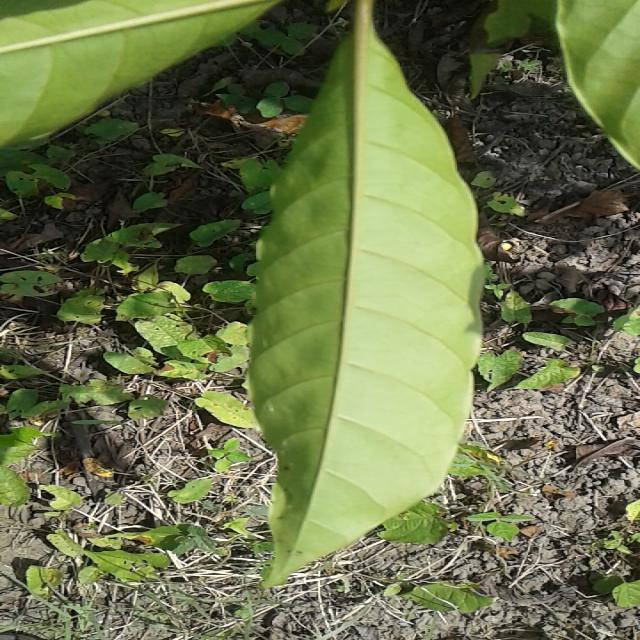Sanas: (247, 0, 486, 590)
